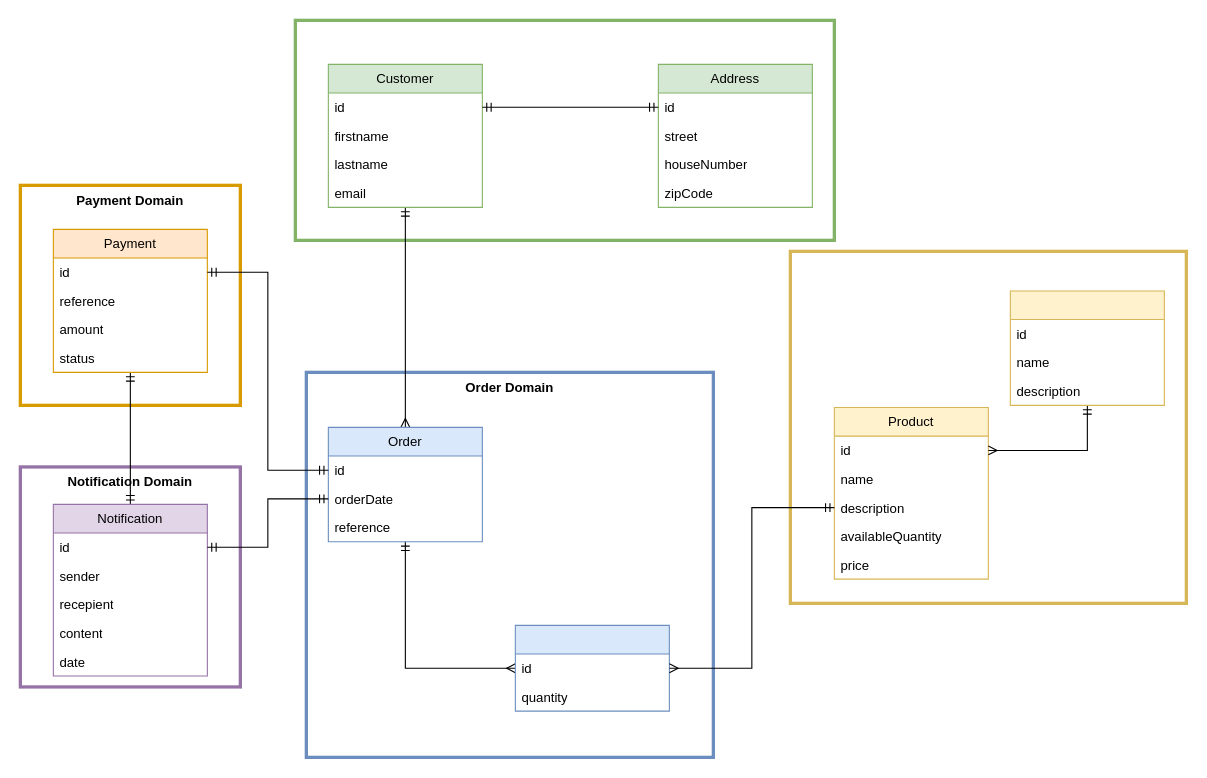
Some shapes in this 1207 by 778 pixel diagram are drawn without their labels. Each missing label, with the box of its shape:
Category: (1009, 290, 1164, 405)
Customer Domain: (293, 18, 835, 241)
OrderLine: (514, 624, 669, 711)
Product Domain: (788, 249, 1187, 604)
